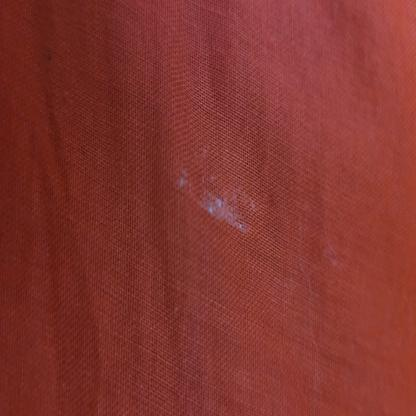spot: (172, 134, 285, 254)
